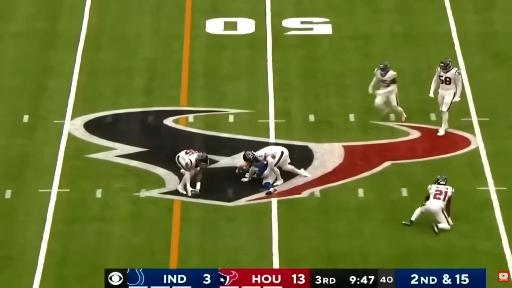Helmet: (196, 152, 209, 168), (439, 58, 453, 72), (243, 151, 254, 163), (379, 62, 390, 73), (435, 175, 447, 185)
Jersey: (436, 68, 460, 92), (428, 185, 454, 207), (176, 150, 198, 170), (255, 146, 284, 161), (375, 69, 397, 88), (250, 164, 262, 177)
Player: (403, 176, 453, 233), (240, 146, 310, 185), (430, 59, 462, 135), (369, 62, 406, 121), (176, 150, 209, 195), (242, 162, 276, 194)
